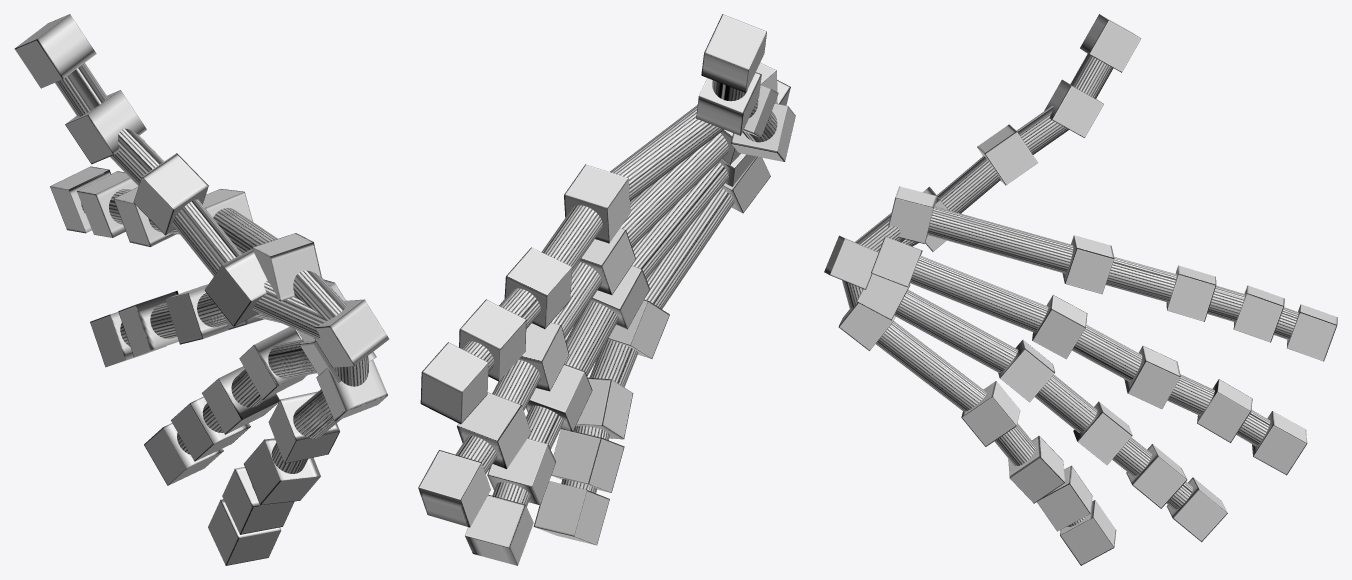
File: right_hand_test.obj
3 views of the same model, side by side, from view 1: azimuth 30°, elevation 25°; view 2: azimuth 150°, elevation 25°; view 3: azimuth 270°, elevation 25° (orthographic). The views are drawn at different scales.
Visible parts, largest first — view 1: Cylinder.001_Cylinder.164; view 2: Cylinder.001_Cylinder.164; view 3: Cylinder.001_Cylinder.164.
Part boxes in pixels (box(x1,y1,x2,y2)): Cylinder.001_Cylinder.164: box(14, 14, 389, 565); Cylinder.001_Cylinder.164: box(418, 14, 795, 565); Cylinder.001_Cylinder.164: box(824, 14, 1337, 565).
Bounding box in the file's own units: 0.0907 × 0.2111 × 0.2078.
1 material, 1 textured.
